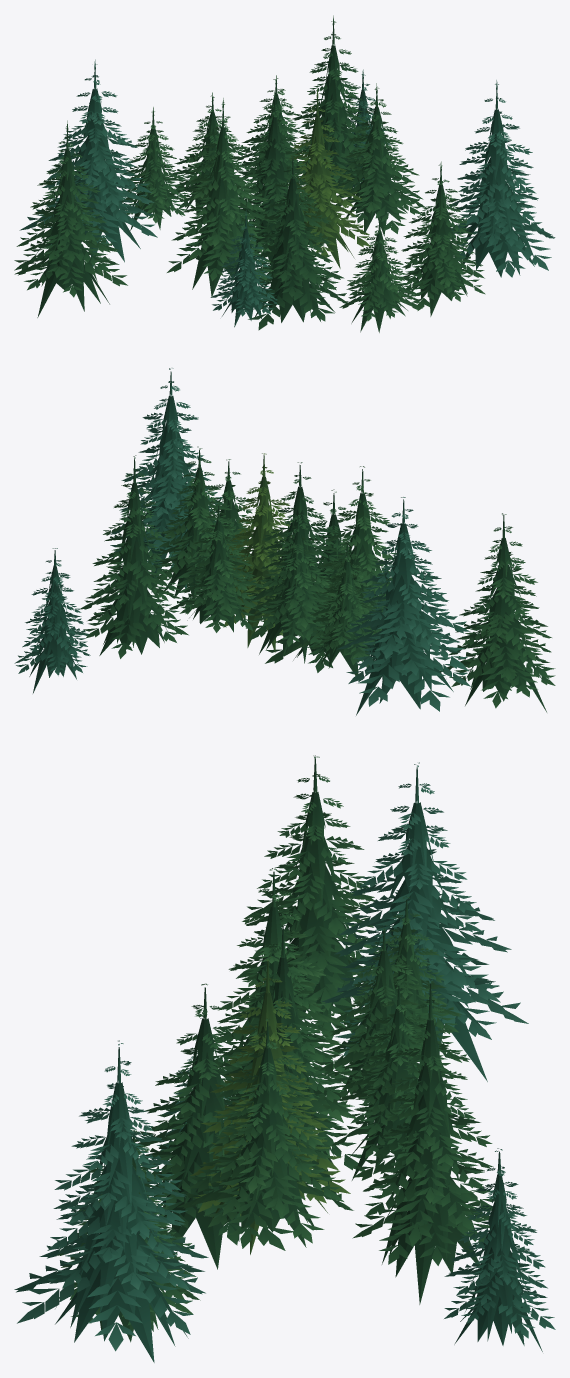
The picture shows the model from 3 angles, top to bottom: view 1: azimuth 30°, elevation 25°; view 2: azimuth 150°, elevation 25°; view 3: azimuth 270°, elevation 25°; orthographic projection. The views are drawn at different scales.
Parts seen in each view (by area): view 1: pn_22; view 2: pn_22; view 3: pn_22.
Boxes of the visible parts, x1,y1,x2,y2 form: pn_22: [14, 15, 555, 332]; pn_22: [14, 368, 555, 715]; pn_22: [14, 755, 555, 1362].
Size of the model in its own units: 40.99 by 20.45 by 25.75.
1 material, 1 textured.
